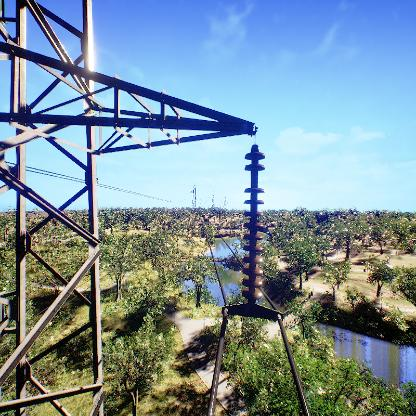insulator: (239, 148, 267, 302)
